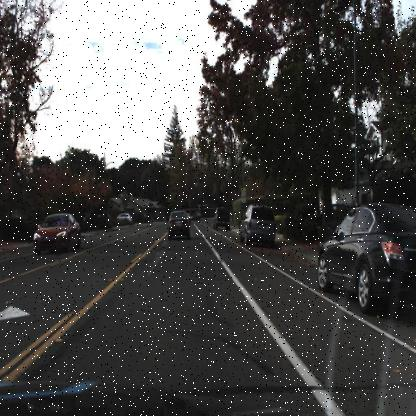car: (316, 201, 415, 319), (32, 211, 83, 256), (242, 201, 282, 249), (166, 211, 191, 242), (217, 208, 232, 234)
